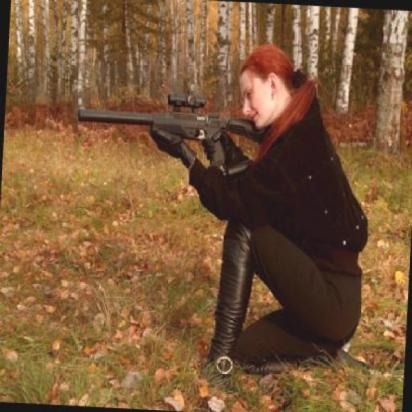Gun: (74, 88, 265, 166)
